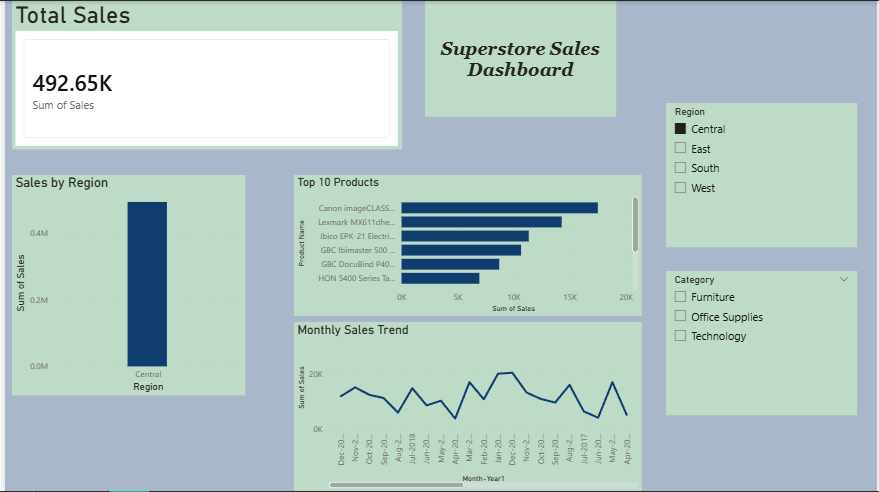

This screenshot's page, from the dashboard's own definition file:
{"tool":"powerbi","page":{"name":"Page 1","canvas":[1280,720],"ordinal":0},"visuals":[{"type":"cardVisual","title":"Total Sales","fields":{"Data":["Sum(superstore_cleaned xlsx.Sales)"]},"box":[10.1,0,572.8,218.4],"z":0},{"type":"columnChart","title":"Sales by Region","fields":{"Category":["superstore_cleaned xlsx.Region"],"Y":["Sum(superstore_cleaned xlsx.Sales)"]},"box":[10.1,255.3,342.7,324.2],"z":1000},{"type":"lineChart","title":"Monthly Sales Trend","fields":{"Y":["Sum(superstore_cleaned xlsx.Sales)"],"Category":["superstore_cleaned xlsx.Month-Year1"]},"box":[425,472,510.7,248.6],"z":2000},{"type":"barChart","title":"Top 10 Products","fields":{"Category":["superstore_cleaned xlsx.Product Name"],"Y":["Sum(superstore_cleaned xlsx.Sales)"]},"box":[425,255.3,510.7,206.6],"z":3000},{"type":"slicer","fields":{"Values":["superstore_cleaned xlsx.Region"]},"box":[970.9,149.5,280.5,211.7],"z":4000},{"type":"slicer","fields":{"Values":["superstore_cleaned xlsx.Category"]},"box":[970.9,396.4,280.5,211.7],"z":5000},{"type":"textbox","box":[616.5,0,280.5,169.7],"z":6000}]}

Visuals, with their boxes in screenshot pixels (x1, y1, x2, y2), scaled from the page's 1280x720 canvas onto the 879x492 screenshot:
"Total Sales" cardVisual: <region>7, 0, 400, 149</region>
"Sales by Region" columnChart: <region>7, 174, 242, 396</region>
"Monthly Sales Trend" lineChart: <region>292, 323, 643, 491</region>
"Top 10 Products" barChart: <region>292, 174, 643, 316</region>
slicer - superstore_cleaned xlsx.Region: <region>667, 102, 859, 247</region>
slicer - superstore_cleaned xlsx.Category: <region>667, 271, 859, 416</region>
textbox: <region>423, 0, 616, 116</region>
